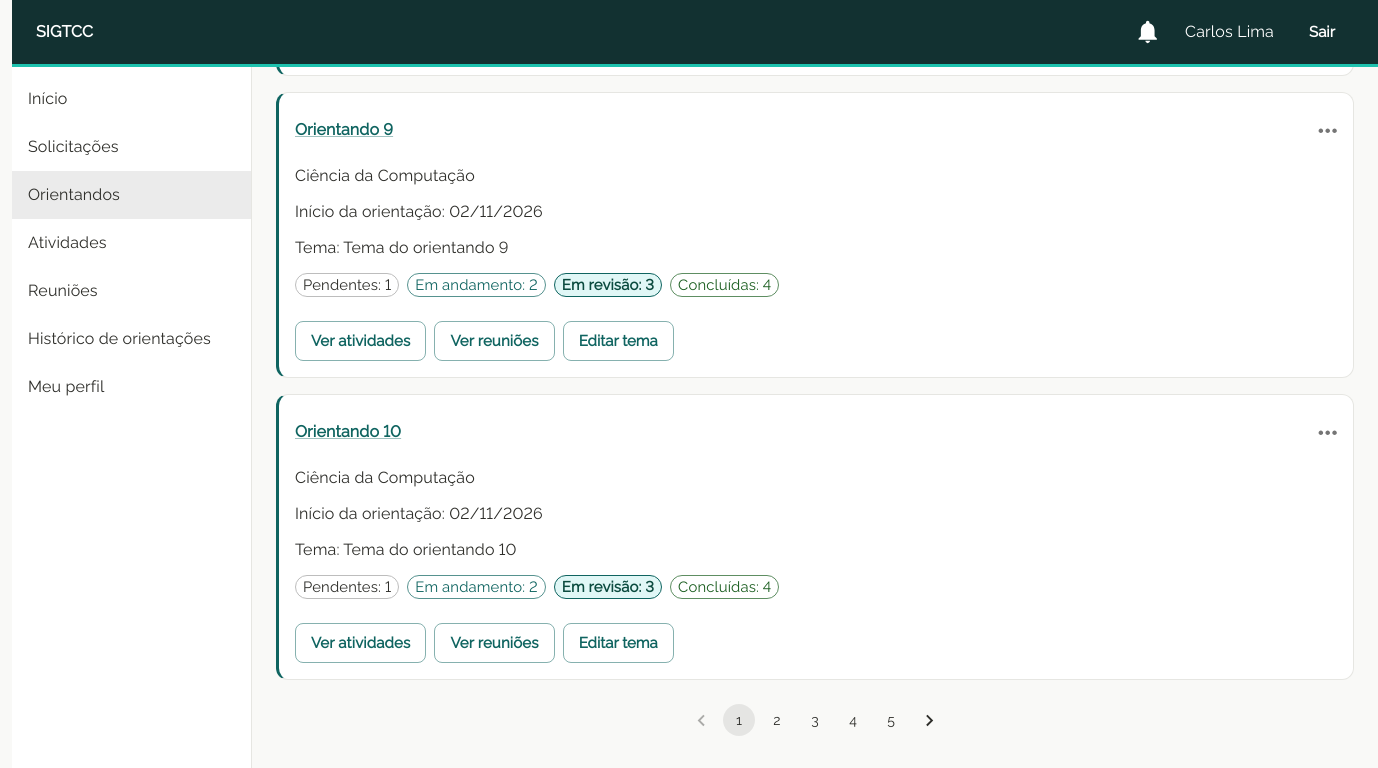
Test: TeacherAdviseesPage: paginação com a página na URL › voltar o histórico depois de mudar de página restaura a página anterior
The image size is (1378, 768).
(page scrolled)
What coordinates should you click on to do the following:
click the button "2"
I would click on:
 (777, 720)
Its box is left=761, top=704, right=793, bottom=736.
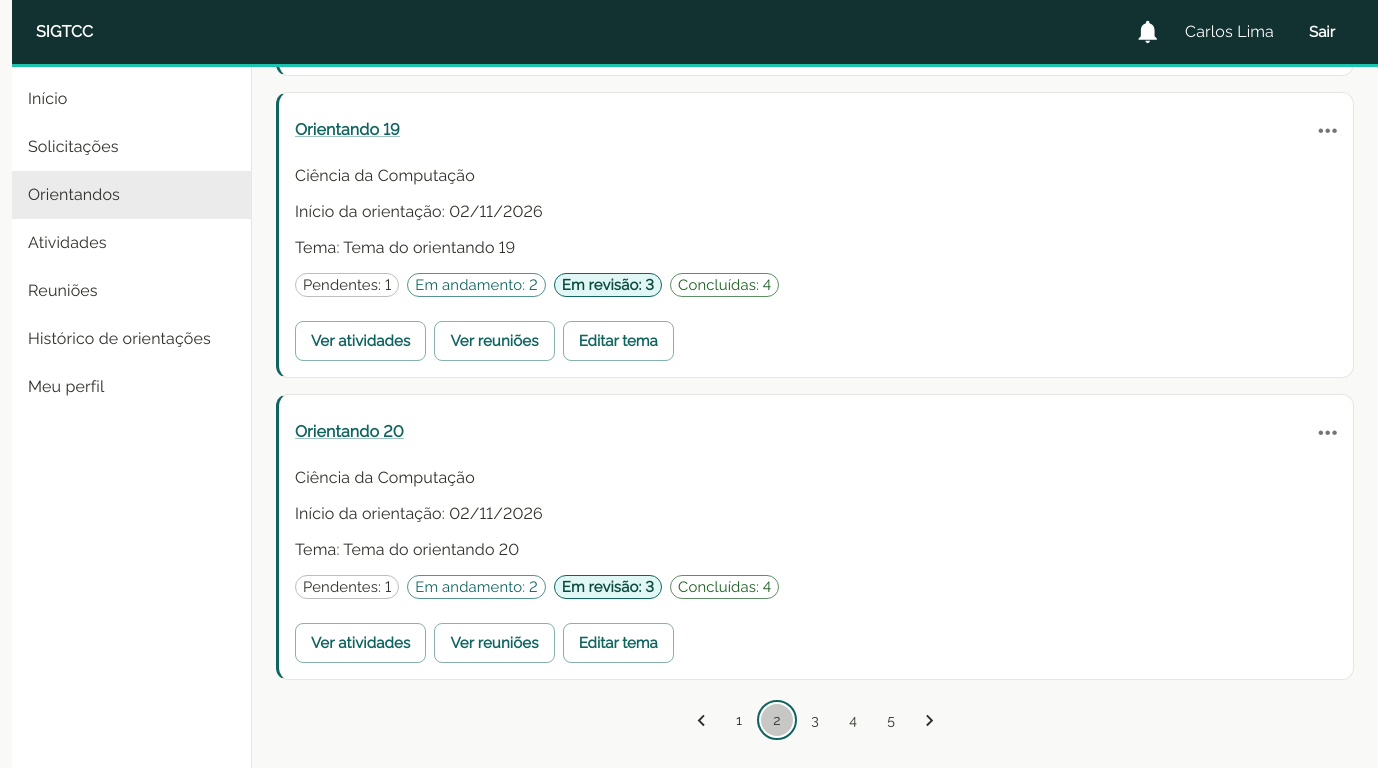
What coordinates should you click on to do the following:
click the button "1"
I would click on:
 (739, 720)
Its box is left=723, top=704, right=755, bottom=736.
(page scrolled)
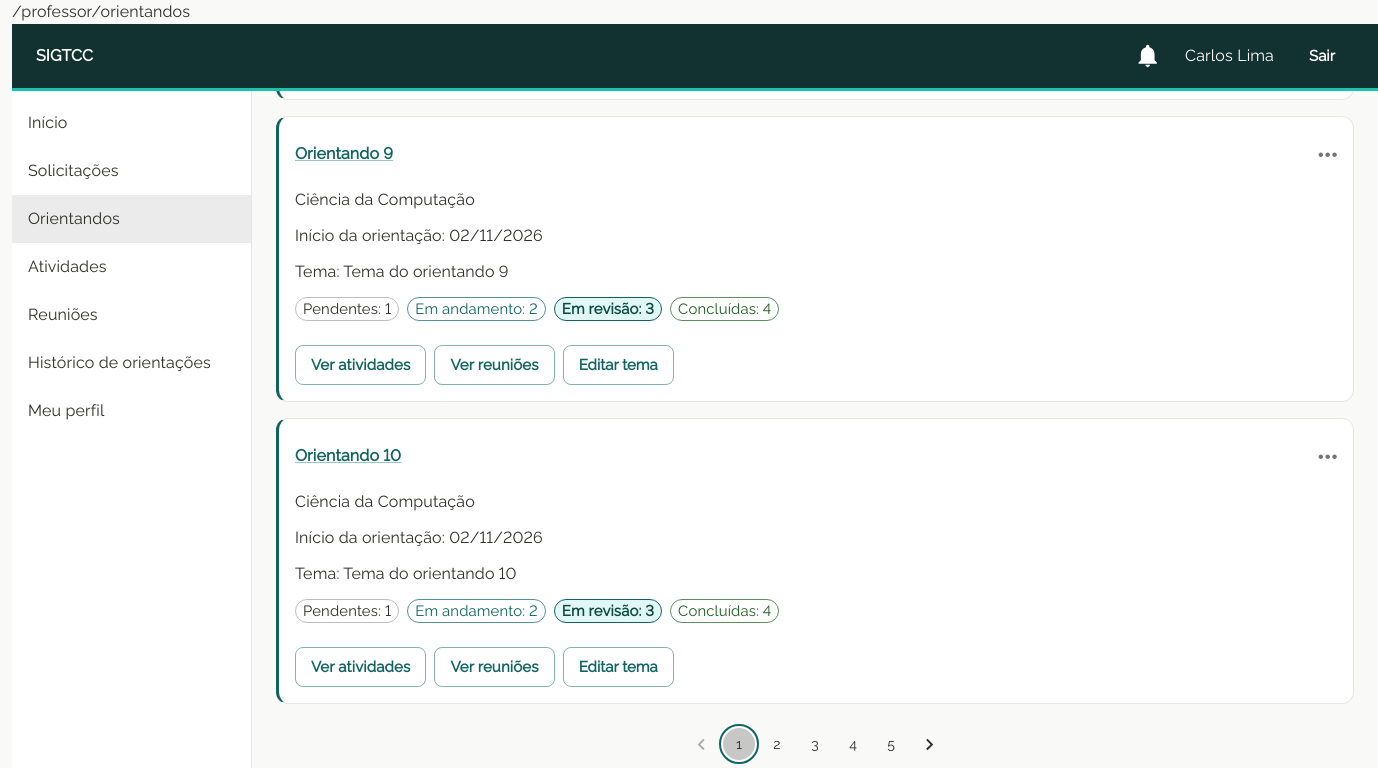
Expected: the text with test id "location" reads "/professor/orientandos", left=12, top=2, right=190, bottom=21
